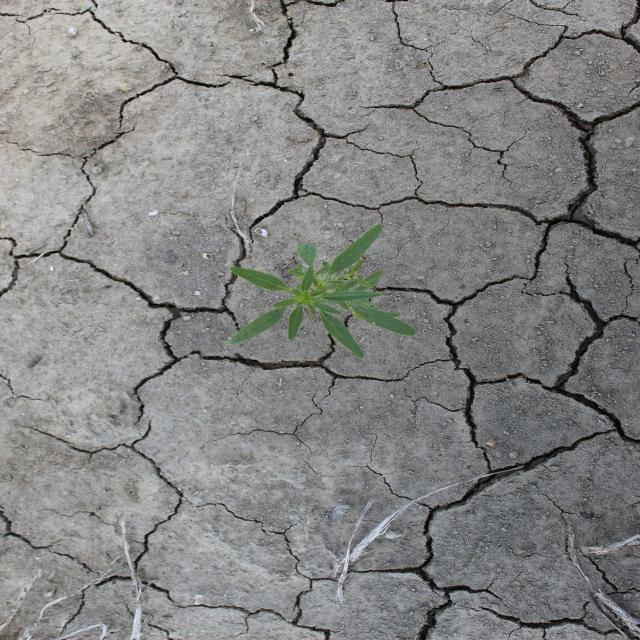Waterhemp: (226, 222, 418, 360)
